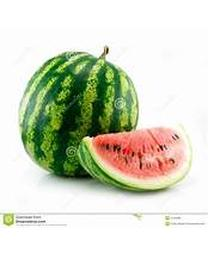watermelon: (20, 50, 139, 178), (76, 120, 194, 191)
